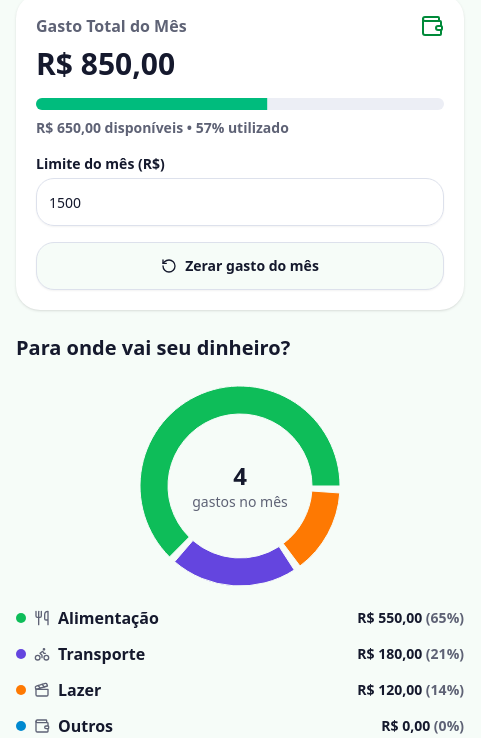
it: Expense tracker › resets the month total after confirming
This screenshot has width=481, height=738.
Click the button "Zerar gasto do mês".
click(240, 266)  # box [36,242,444,290]
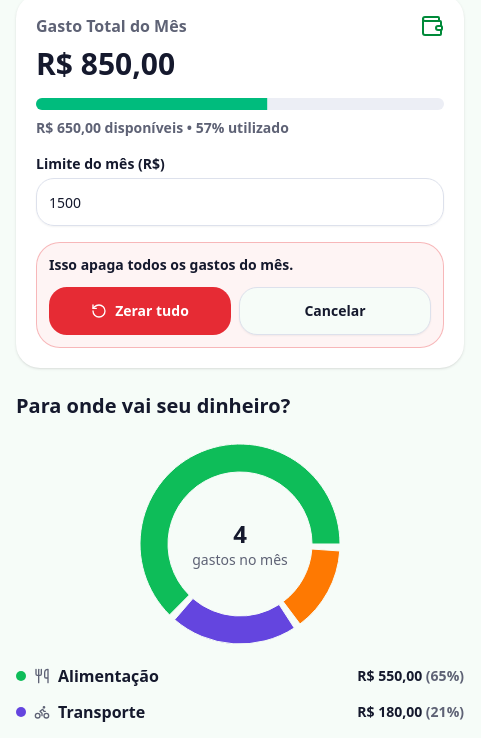
Now the text "Isso apaga todos os gastos do mês." is shown, box [49,255,293,274]
Click the button "Cancelar".
click(335, 311)  # box [239,287,431,335]
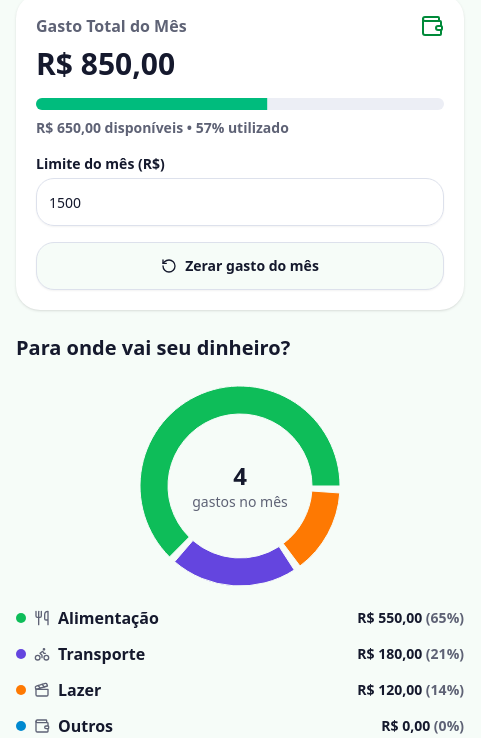
Expected: the text with test id "expense-total" shows "850,00", [36,43,175,84]
Click the button "Zerar gasto do mês".
click(240, 266)  # box [36,242,444,290]
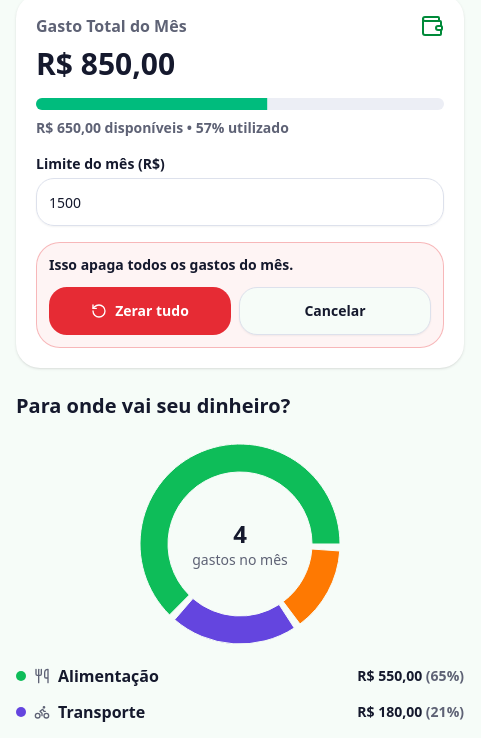
Click the button "Zerar tudo".
click(140, 311)  # box [49,287,231,335]
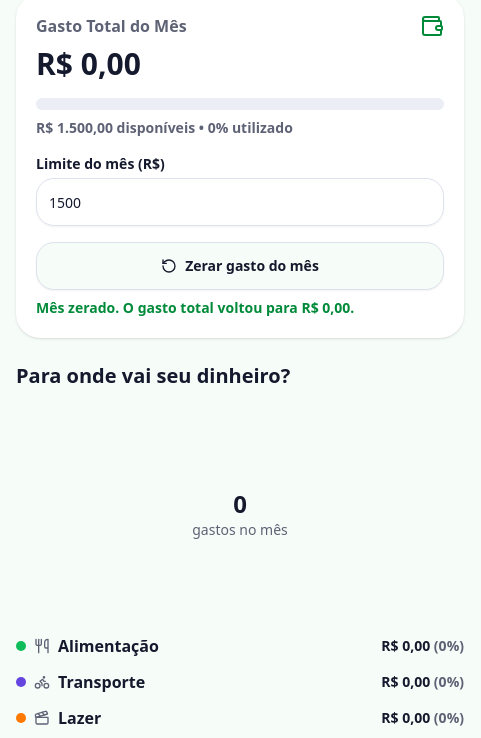
Expected: the text with test id "expense-total" shows "0,00", [36,43,141,84]
Now the text "Mês zerado. O gasto total voltou para R$ 0,00." is shown, box [36,298,354,317]
